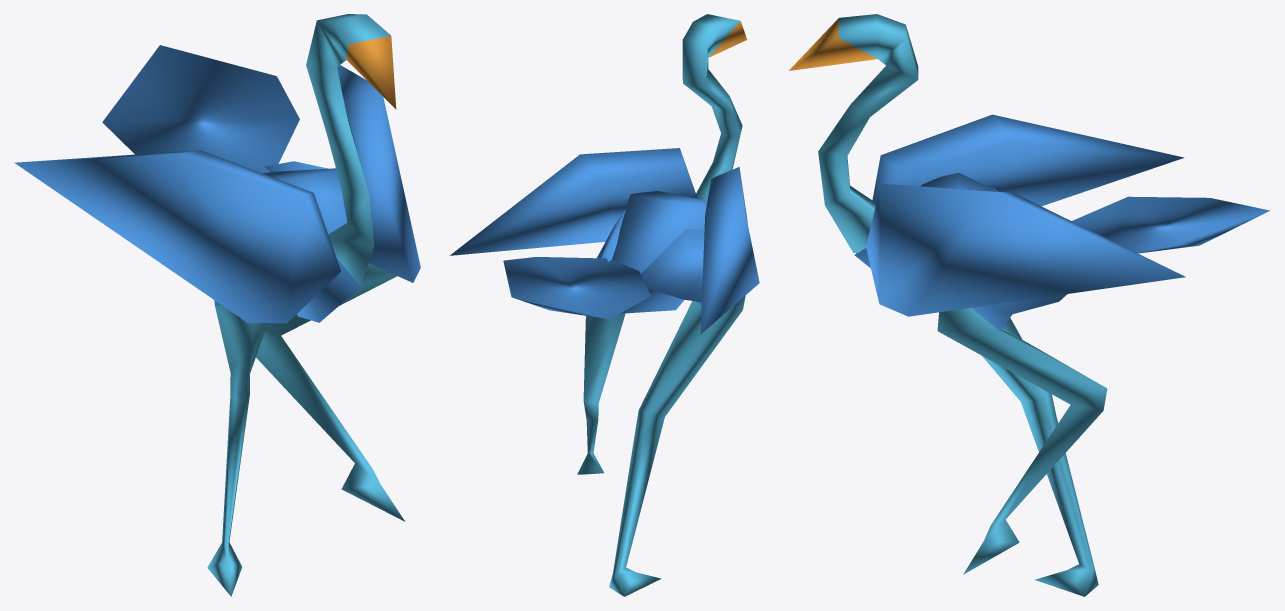
The model's file is birdRun.gltf.
The picture shows the model from 3 angles, left to right: view 1: azimuth 30°, elevation 25°; view 2: azimuth 150°, elevation 25°; view 3: azimuth 270°, elevation 25°; orthographic projection. The views are drawn at different scales.
Visible parts, largest first — view 1: BirdRun.001; view 2: BirdRun.001; view 3: BirdRun.001.
Part boxes in pixels (box(x1,y1,x2,y2)): BirdRun.001: box(14, 14, 420, 596); BirdRun.001: box(449, 14, 759, 596); BirdRun.001: box(789, 14, 1269, 596).
Size of the model in its own units: 2.36 by 4.49 by 3.44.
